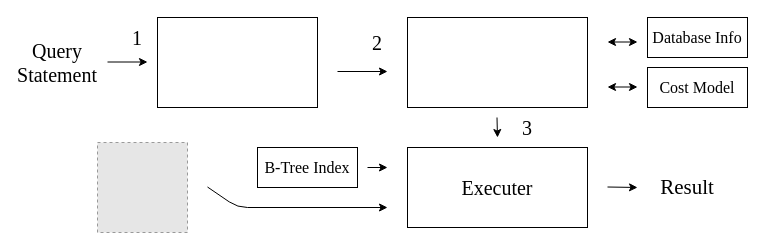
Some shapes in this 765 by 250 pixel diagram are drawn without their labels. Grey dashed boxes stand in for pictures. The box of each missing label's shape, as (x1, y1, x2, y2) in pixels:
Optimizer: (406, 16, 588, 108)
Parser: (156, 16, 318, 108)
